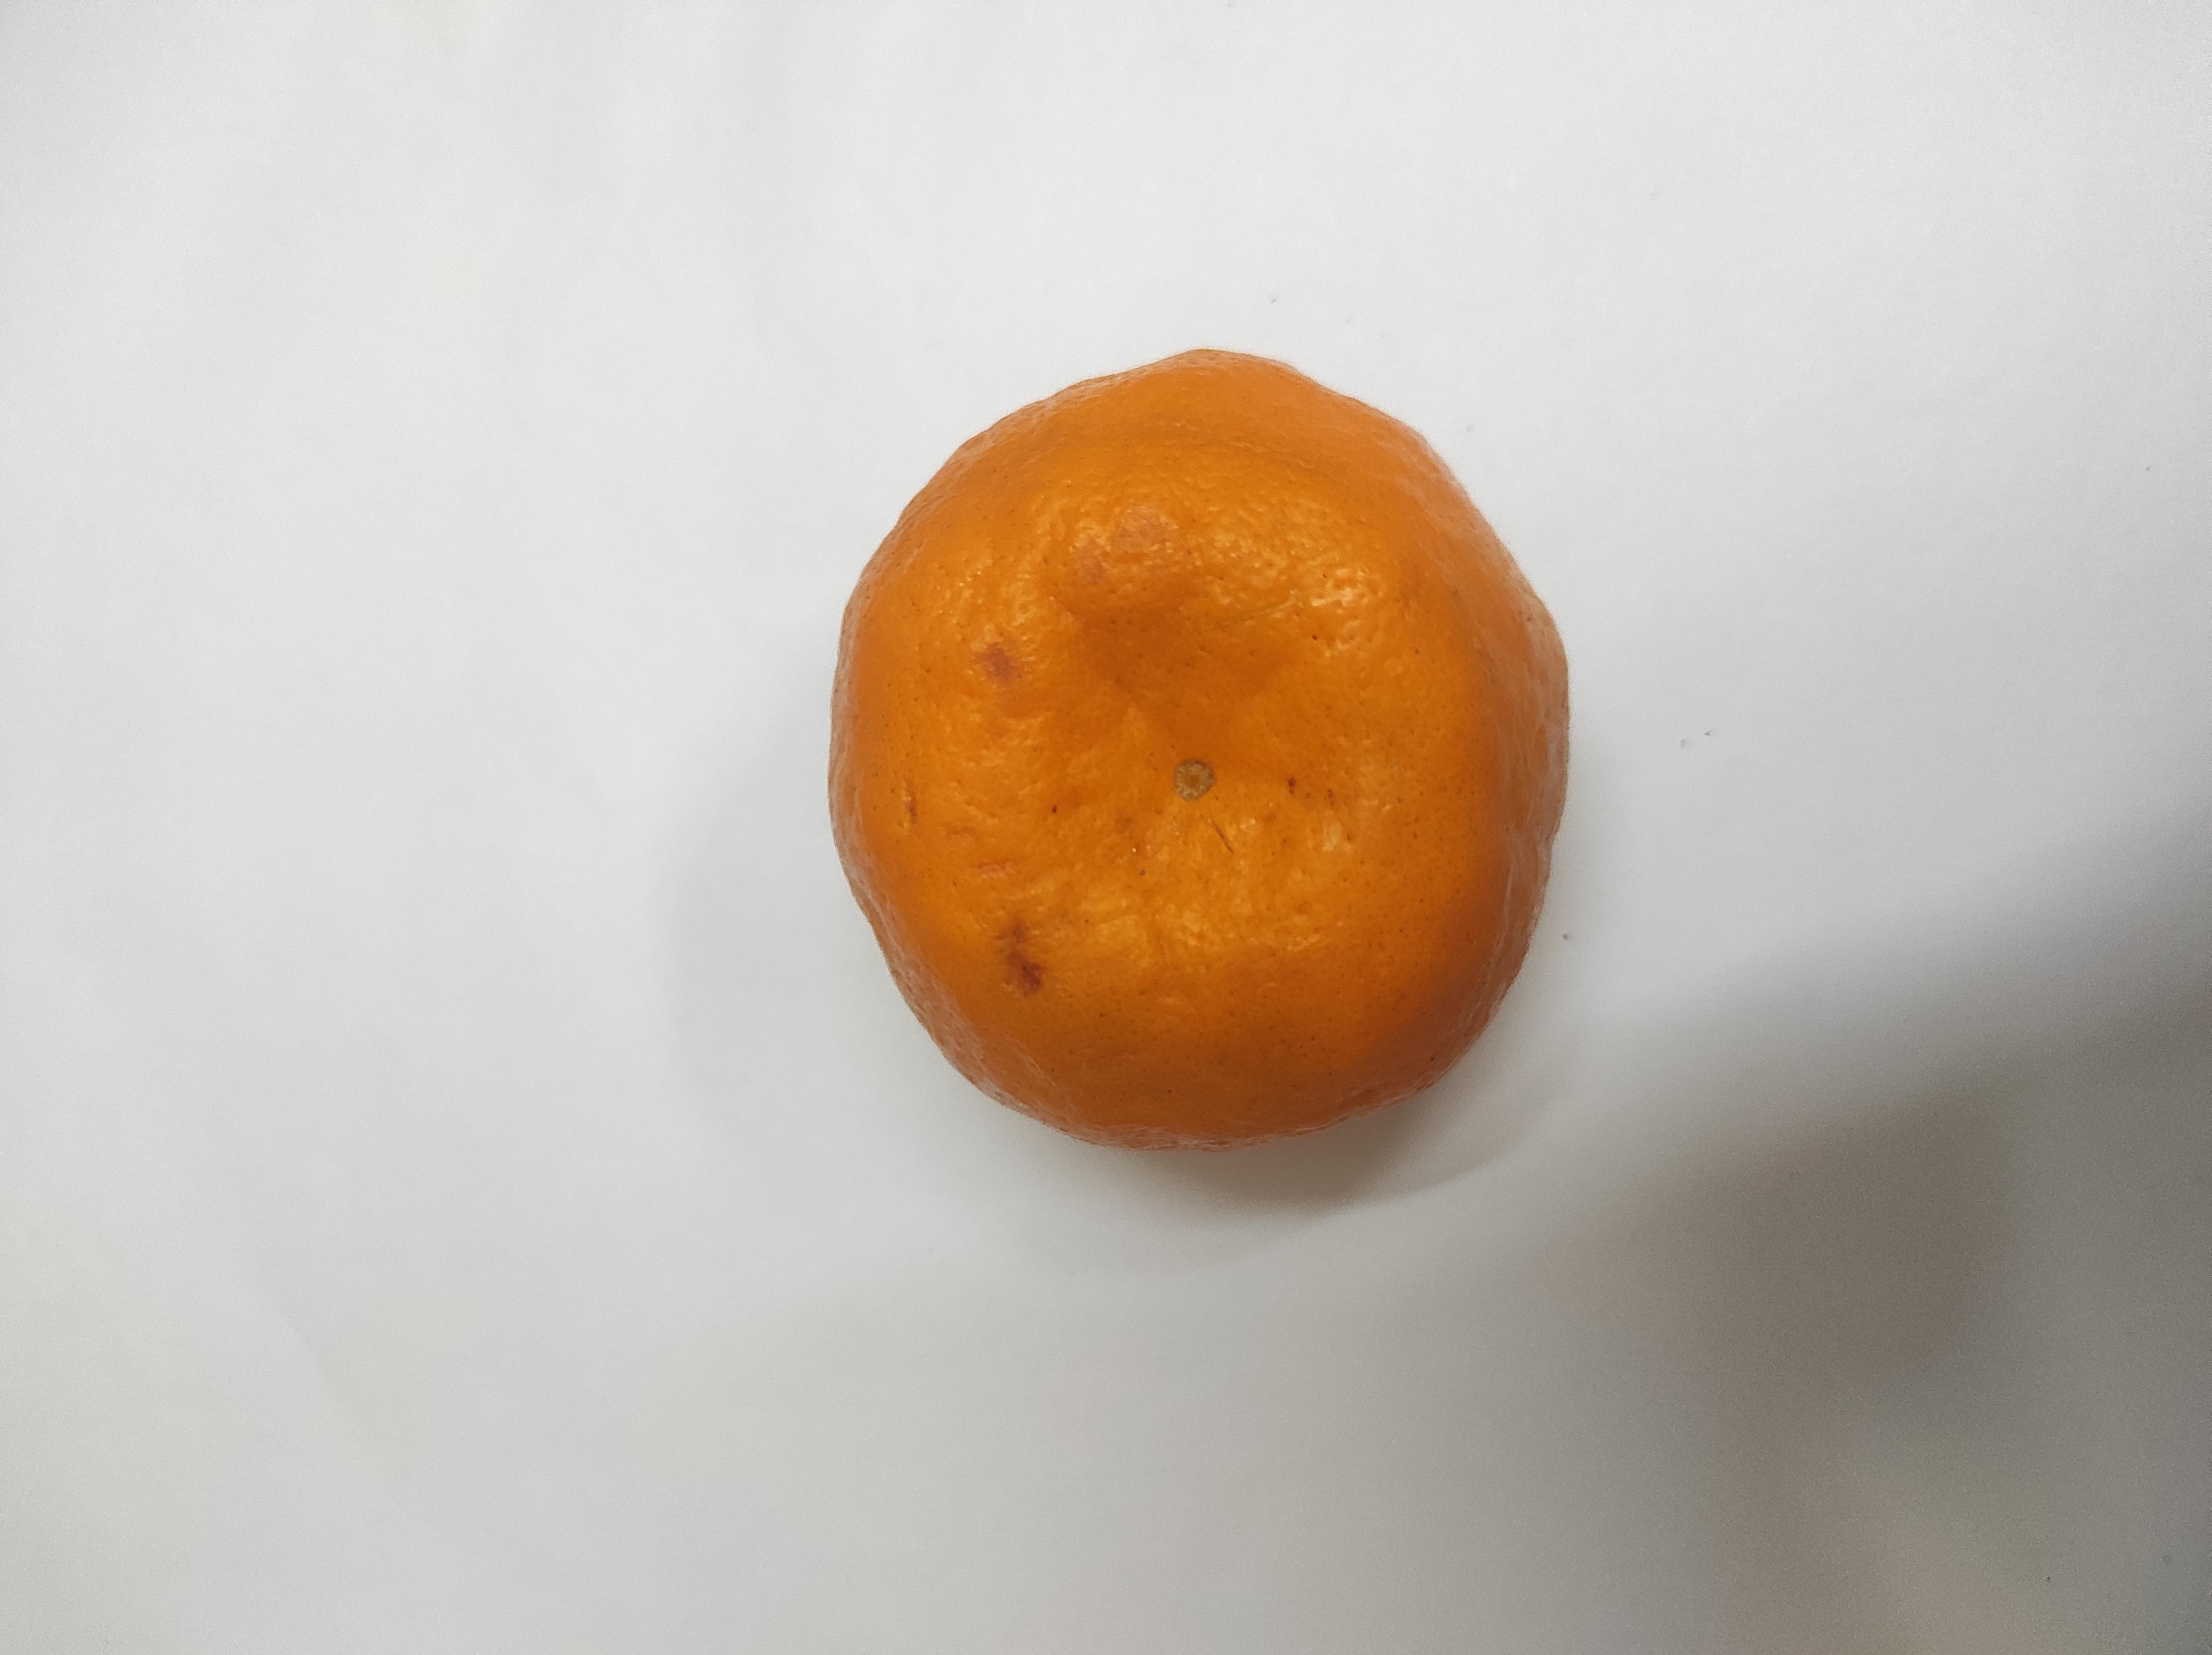Ripe: (670, 617, 1739, 1166)
